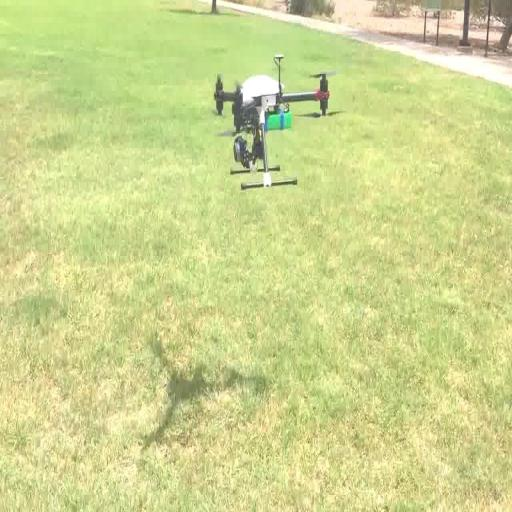drone: (213, 53, 344, 191)
